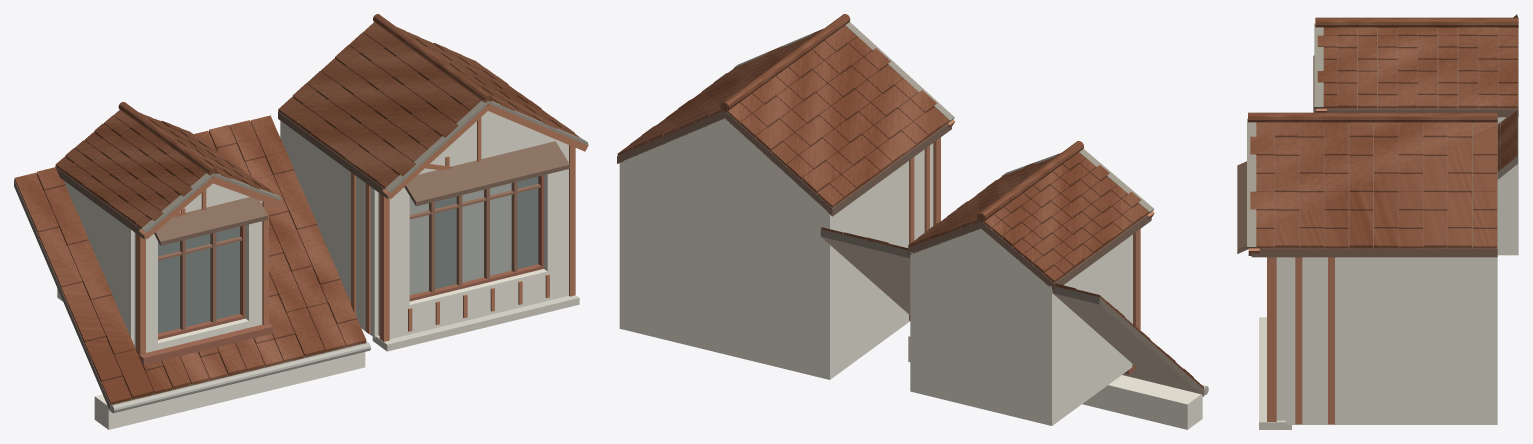
File: xinhua-16-gables-near.glb
3 renders of one model, left to right at view 1: azimuth 30°, elevation 25°; view 2: azimuth 150°, elevation 25°; view 3: azimuth 270°, elevation 25°, orthographic. The views are drawn at different scales.
Parts seen in each view (by area): view 1: 新华路211弄16号花园住宅老虎窗与相邻山墙; view 2: 新华路211弄16号花园住宅老虎窗与相邻山墙; view 3: 新华路211弄16号花园住宅老虎窗与相邻山墙.
Part boxes in pixels (x1,y1,x2,y2): 新华路211弄16号花园住宅老虎窗与相邻山墙: (14,14,588,429); 新华路211弄16号花园住宅老虎窗与相邻山墙: (617,14,1208,429); 新华路211弄16号花园住宅老虎窗与相邻山墙: (1237,14,1518,429).
Size of the model in its own units: 5.06 by 2.84 by 2.42.
13 materials, 1 textured.
